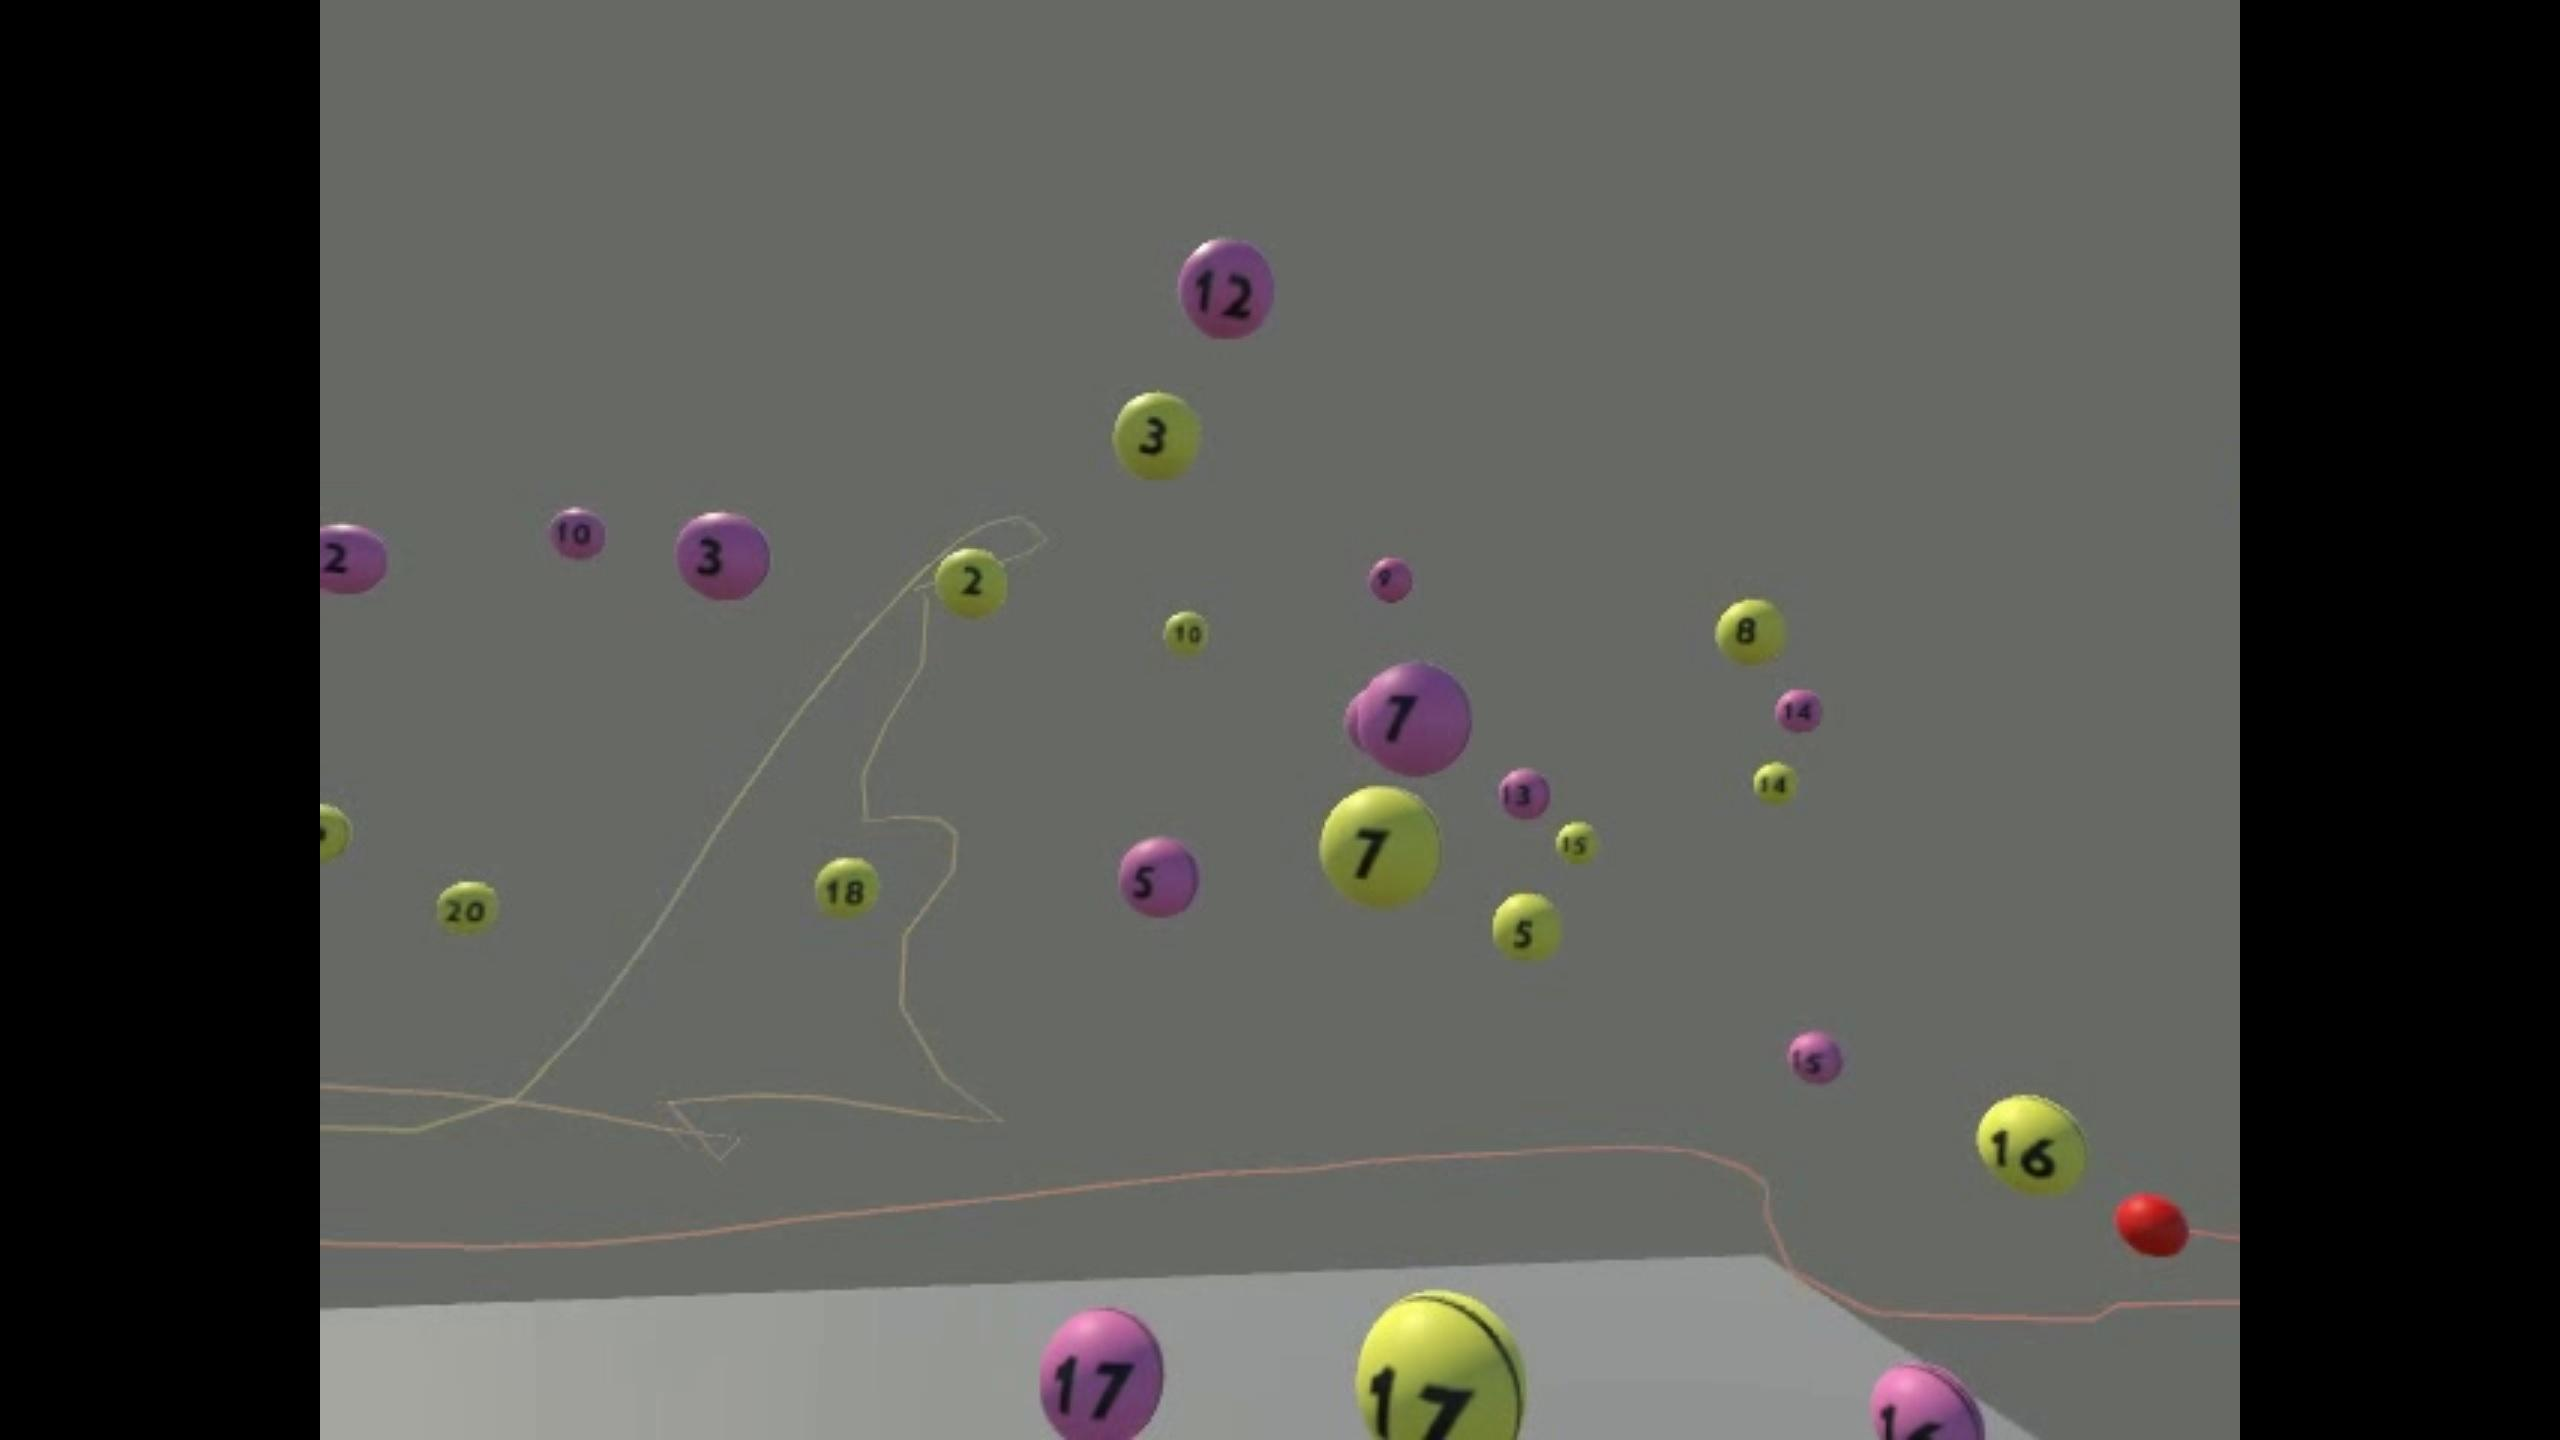ball_02_yellow: (937, 549, 1007, 621)
ball_03_pink: (675, 513, 768, 601)
ball_03_yellow: (1111, 390, 1204, 478)
ball_05_pink: (1120, 837, 1197, 918), (1495, 893, 1565, 962)
ball_07_pink: (1359, 665, 1470, 775)
ball_07_yellow: (1320, 788, 1442, 909)
ball_08_pink: (1776, 691, 1822, 730)
ball_08_yellow: (1716, 598, 1786, 659)
ball_09_pink: (1370, 556, 1414, 603)
ball_10_pink: (550, 508, 605, 559)
ball_10_yellow: (1166, 610, 1210, 652)
ball_12_pink: (1180, 239, 1271, 339)
ball_13_pink: (1500, 770, 1549, 819)
ball_14_yellow: (1755, 763, 1795, 802)
ball_15_pink: (1786, 1032, 1844, 1083)
ball_15_yellow: (1554, 821, 1602, 867)
ball_16_yellow: (1978, 1095, 2092, 1197)
ball_17_pink: (1039, 1310, 1166, 1440)
ball_18_yellow: (816, 856, 879, 918)
ball_20_yellow: (438, 881, 499, 932)
ball_unknown: (1357, 1291, 1523, 1440), (1873, 1364, 1983, 1440), (320, 526, 389, 593), (322, 804, 352, 867), (1345, 686, 1364, 747)
user_cursor: (2117, 1192, 2187, 1259)
